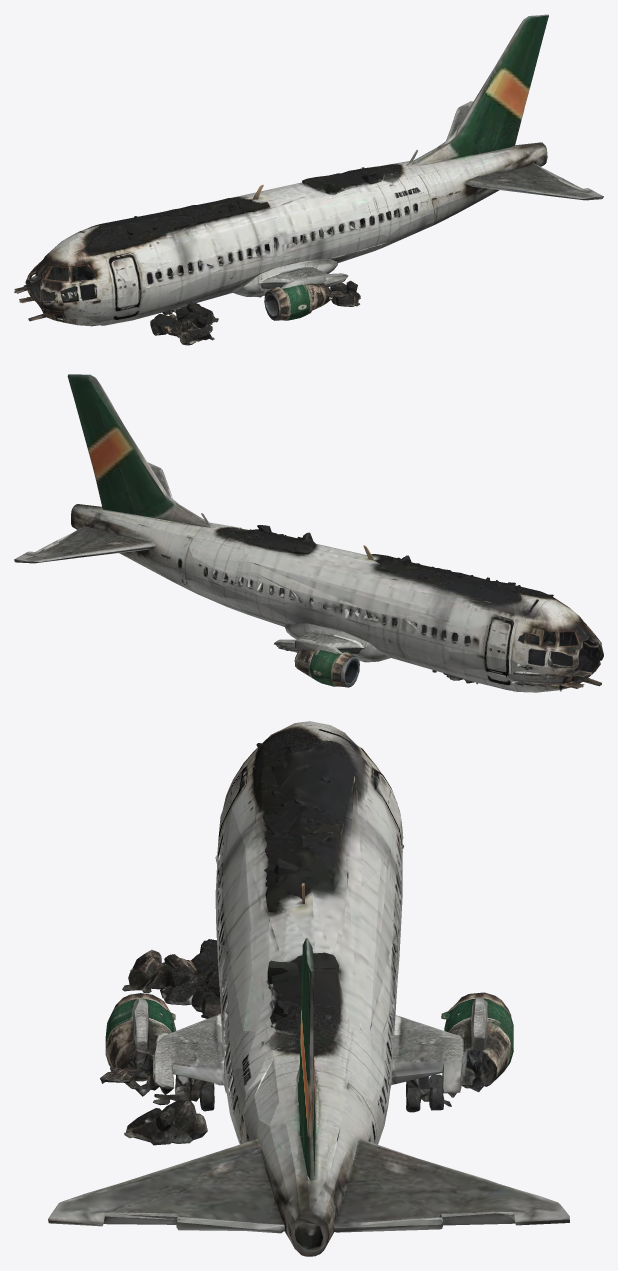
The model's file is crashed_boeing_fuselage.glb.
3 views of the same model, one above another, from view 1: azimuth 30°, elevation 25°; view 2: azimuth 150°, elevation 25°; view 3: azimuth 270°, elevation 25° (orthographic). The views are drawn at different scales.
Size of the model in its own units: 1.9 by 0.7187 by 0.8204.
Materials: 1 (1 with a texture image).
